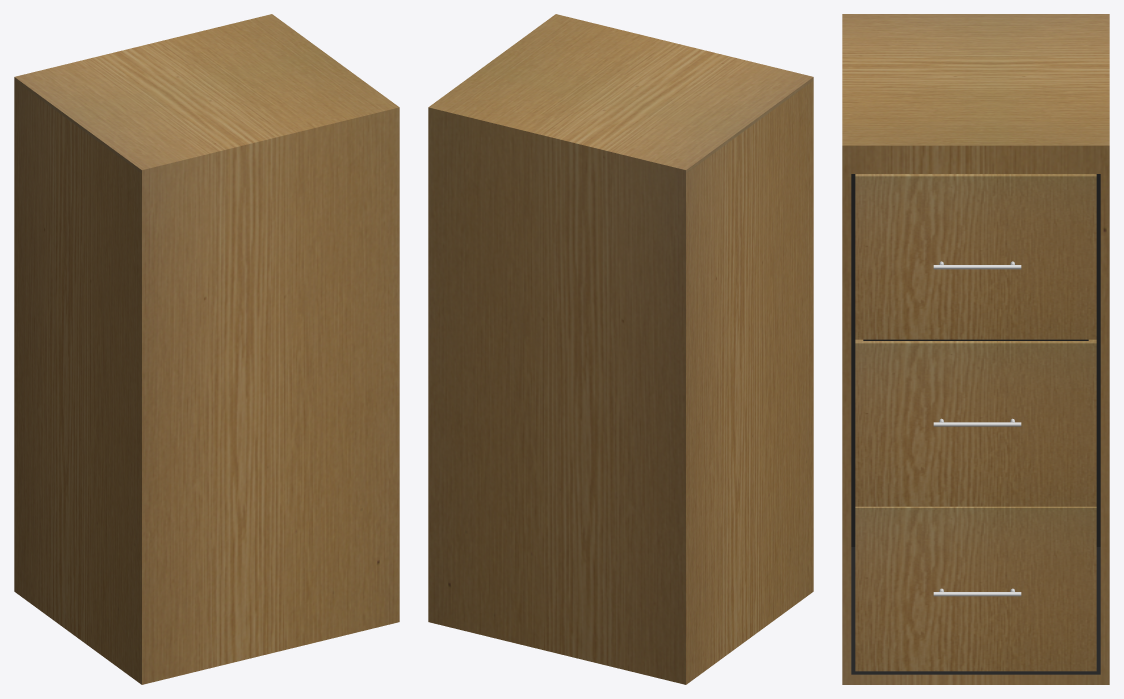
Rendered from fileCab1.FBX.
3 views of the same model, side by side, from view 1: azimuth 30°, elevation 25°; view 2: azimuth 150°, elevation 25°; view 3: azimuth 270°, elevation 25° (orthographic). The views are drawn at different scales.
Parts seen in each view (by area): view 1: Box001; view 2: Box001; view 3: Box001, Box020, Box004, Box021, Cylinder028, Cylinder007, Cylinder031.
Part boxes in pixels (<box>): Box001: <box>14,14,399,684</box>; Box001: <box>428,14,813,684</box>; Box001: <box>842,14,1109,684</box>; Box020: <box>855,339,1096,506</box>; Box004: <box>855,174,1096,339</box>; Box021: <box>855,506,1096,671</box>; Cylinder028: <box>933,422,1021,426</box>; Cylinder007: <box>933,265,1021,269</box>; Cylinder031: <box>933,592,1021,596</box>.
Bounding box in the file's own units: 0.3625 × 0.6678 × 0.3.
